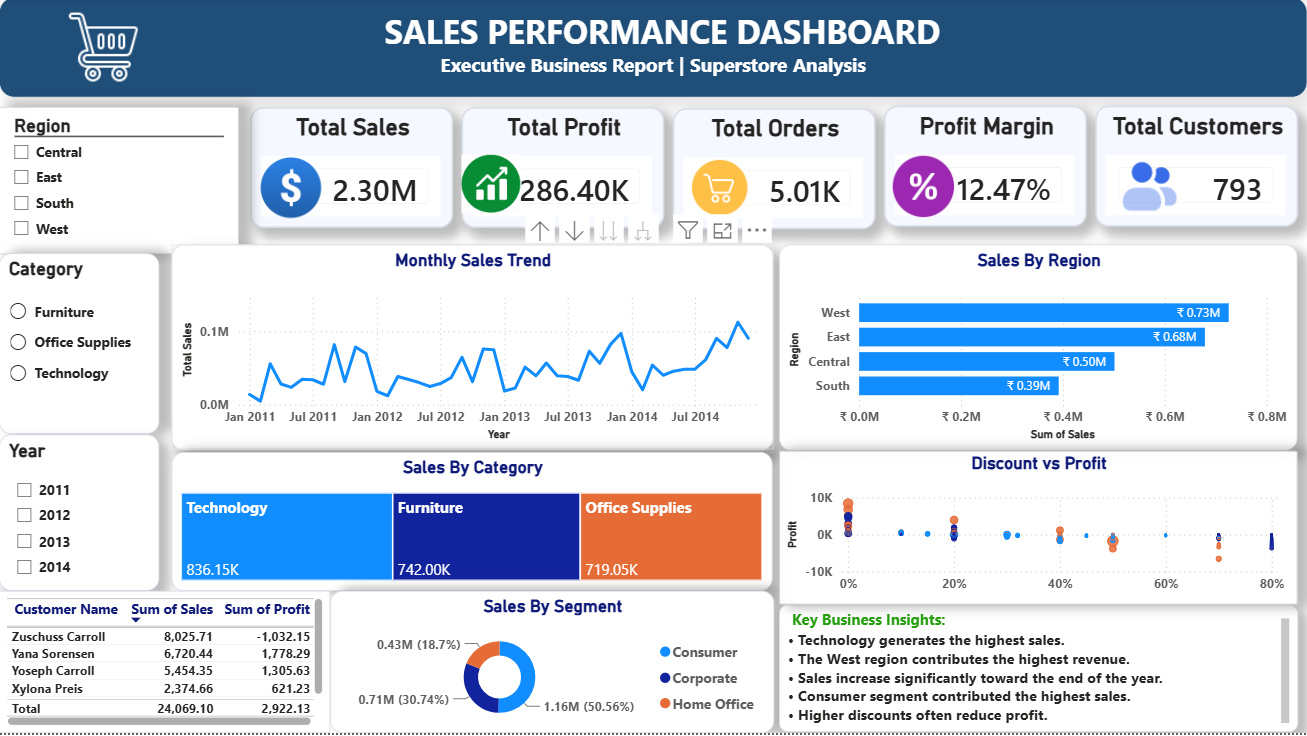

What the dashboard file says about the page in this screenshot:
{"tool":"powerbi","page":{"name":"Executive Dashboard","canvas":[1280,720],"ordinal":0},"visuals":[{"type":"textbox","box":[0,0,1280.3,98],"z":0},{"type":"image","box":[66,9.8,72,79],"z":1000},{"type":"cardVisual","title":"Total Sales","fields":{"Data":["Sum(Orders.Sales)"]},"box":[245.8,107.6,198.1,118.6],"z":2000},{"type":"image","box":[255.6,156.5,59.9,59.9],"z":3000},{"type":"cardVisual","title":"Total Profit","fields":{"Data":["Orders.Total Profit"]},"box":[452.4,107.6,198.1,118.6],"z":4000},{"type":"cardVisual","title":"Total Orders","fields":{"Data":["Orders.Total Orders"]},"box":[659.1,108.8,198.1,118.6],"z":5000},{"type":"cardVisual","title":"Profit Margin","fields":{"Data":["Orders.Profit Margin"]},"box":[865.8,106.4,198.1,118.6],"z":6000},{"type":"cardVisual","title":"Total Customers","fields":{"Data":["Orders.Total Customers"]},"box":[1072.4,106.4,198.1,118.6],"z":7000},{"type":"image","box":[452.4,150.4,57.5,64.8],"z":8000},{"type":"image","box":[675,156.5,59.9,59.9],"z":9000},{"type":"image","box":[874.3,155.3,59.9,59.9],"z":10000},{"type":"image","box":[1095.7,155.3,59.9,59.9],"z":11000},{"type":"slicer","fields":{"Values":["Orders.Region"]},"box":[0,107,234.6,144.1],"z":12000},{"type":"listSlicer","fields":{"Values":["Orders.Category"]},"box":[0,251.1,156.4,177],"z":13000},{"type":"slicer","title":"Year","fields":{"Values":["Orders.Year"]},"box":[0,428,156.5,152.9],"z":14000},{"type":"lineChart","title":"Monthly Sales Trend","fields":{"Y":["Orders.Total Sales"],"Category":["Orders.Order Date.Variation.Date Hierarchy.Year","Orders.Order Date.Variation.Date Hierarchy.Month"]},"box":[168.8,241.5,588.7,201.7],"z":15000},{"type":"clusteredBarChart","title":"Sales By Region","fields":{"Y":["Sum(Orders.Sales)"],"Category":["Orders.Region"]},"box":[763,242.1,507.5,201.8],"z":16000},{"type":"treemap","title":"Sales By Category","fields":{"Group":["Orders.Category"],"Values":["Sum(Orders.Sales)"]},"box":[168.8,445.1,588.2,135.7],"z":17000},{"type":"donutChart","title":"Sales By Segment","fields":{"Category":["Orders.Segment"],"Y":["Sum(Orders.Sales)"]},"box":[324,581,434,139],"z":18000},{"type":"tableEx","fields":{"Values":["Orders.Customer Name","Sum(Orders.Sales)","Sum(Orders.Profit)"]},"box":[0,580.8,324.1,139.4],"z":19000},{"type":"textbox","box":[763,594,508,125],"z":20000},{"type":"scatterChart","title":"Discount vs Profit","fields":{"X":["Orders.Discount"],"Y":["Orders.Profit"],"Series":["Orders.Category"],"Size":["Sum(Orders.Sales)"]},"box":[763,443.9,507.5,150.4],"z":21000}]}

Visuals, with their boxes in screenshot pixels (x1, y1, x2, y2), scaled from the page's 1280x720 canvas onto the 1307x736 screenshot:
textbox: (0, 0, 1306, 100)
image: (67, 10, 141, 91)
"Total Sales" cardVisual: (251, 110, 453, 231)
image: (261, 160, 322, 221)
"Total Profit" cardVisual: (462, 110, 664, 231)
"Total Orders" cardVisual: (673, 111, 875, 232)
"Profit Margin" cardVisual: (884, 109, 1086, 230)
"Total Customers" cardVisual: (1095, 109, 1297, 230)
image: (462, 154, 521, 220)
image: (689, 160, 750, 221)
image: (893, 159, 954, 220)
image: (1119, 159, 1180, 220)
slicer - Orders.Region: (0, 109, 240, 257)
listSlicer - Orders.Category: (0, 257, 160, 438)
"Year" slicer: (0, 438, 160, 594)
"Monthly Sales Trend" lineChart: (172, 247, 773, 453)
"Sales By Region" clusteredBarChart: (779, 247, 1297, 454)
"Sales By Category" treemap: (172, 455, 773, 594)
"Sales By Segment" donutChart: (331, 594, 774, 735)
tableEx - Orders.Customer Name x Sum(Orders.Sales): (0, 594, 331, 735)
textbox: (779, 607, 1298, 735)
"Discount vs Profit" scatterChart: (779, 454, 1297, 608)
